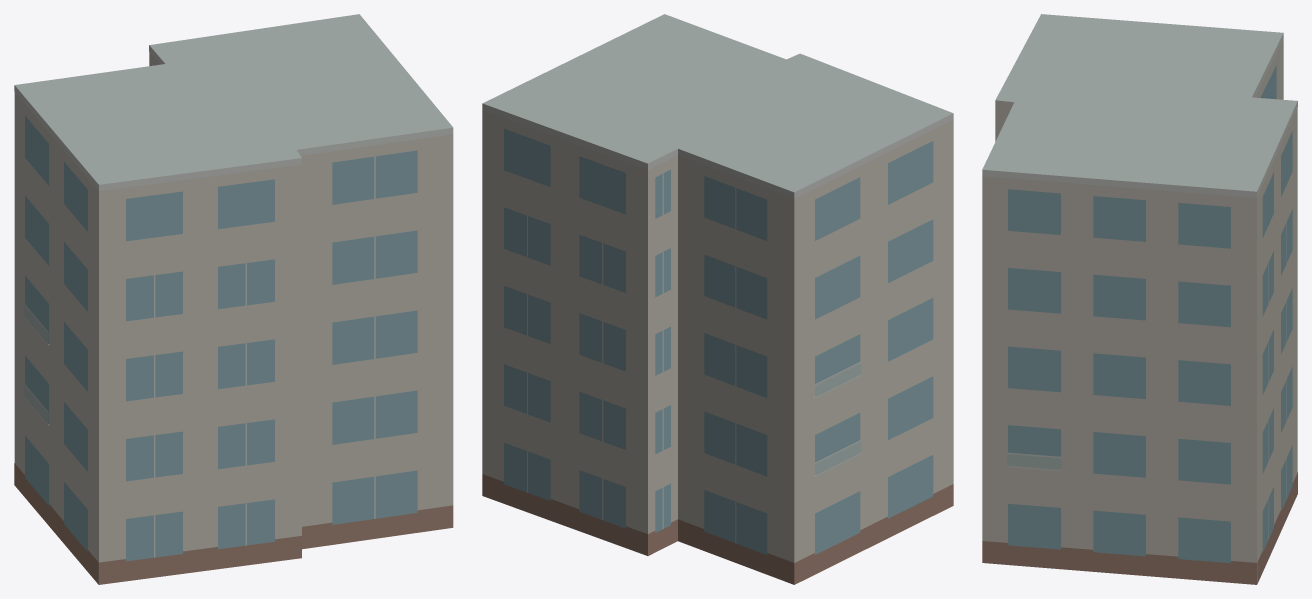
Rendered from survey-upis-32707701.glb.
3 views of the same model, side by side, from view 1: azimuth 30°, elevation 25°; view 2: azimuth 150°, elevation 25°; view 3: azimuth 270°, elevation 25° (orthographic).
Visible parts, largest first — view 1: survey-upis-32707701.tmp; view 2: survey-upis-32707701.tmp; view 3: survey-upis-32707701.tmp.
Part boxes in pixels (box(x1,y1,x2,y2)): survey-upis-32707701.tmp: box(14, 14, 453, 584); survey-upis-32707701.tmp: box(482, 14, 953, 584); survey-upis-32707701.tmp: box(982, 14, 1297, 584).
Bounding box in the file's own units: 14.74 × 15.2 × 11.07.
